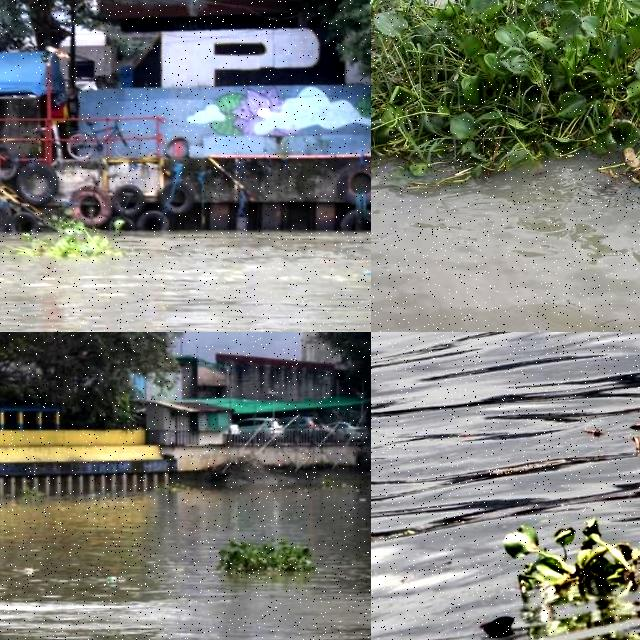water-hyacinth: (372, 1, 640, 210), (504, 512, 640, 640), (1, 220, 127, 264), (220, 536, 322, 578)
